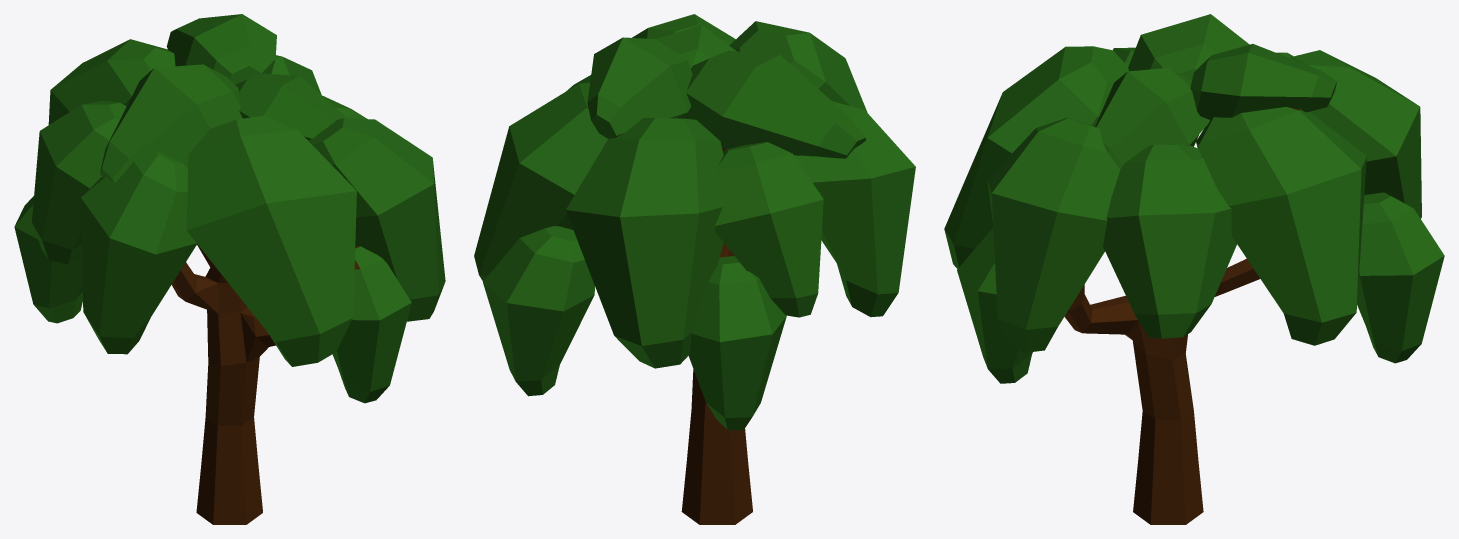
Rendered from tree3.fbx.
3 renders of one model, left to right at view 1: azimuth 30°, elevation 25°; view 2: azimuth 150°, elevation 25°; view 3: azimuth 270°, elevation 25°, orthographic. The views are drawn at different scales.
Parts seen in each view (by area): view 1: Tree_Type6_02_mesh; view 2: Tree_Type6_02_mesh; view 3: Tree_Type6_02_mesh.
Boxes of the visible parts, x1,y1,x2,y2 form: Tree_Type6_02_mesh: [14, 14, 445, 524]; Tree_Type6_02_mesh: [474, 14, 915, 524]; Tree_Type6_02_mesh: [944, 14, 1444, 524].
Size of the model in its own units: 231 by 312 by 292.
